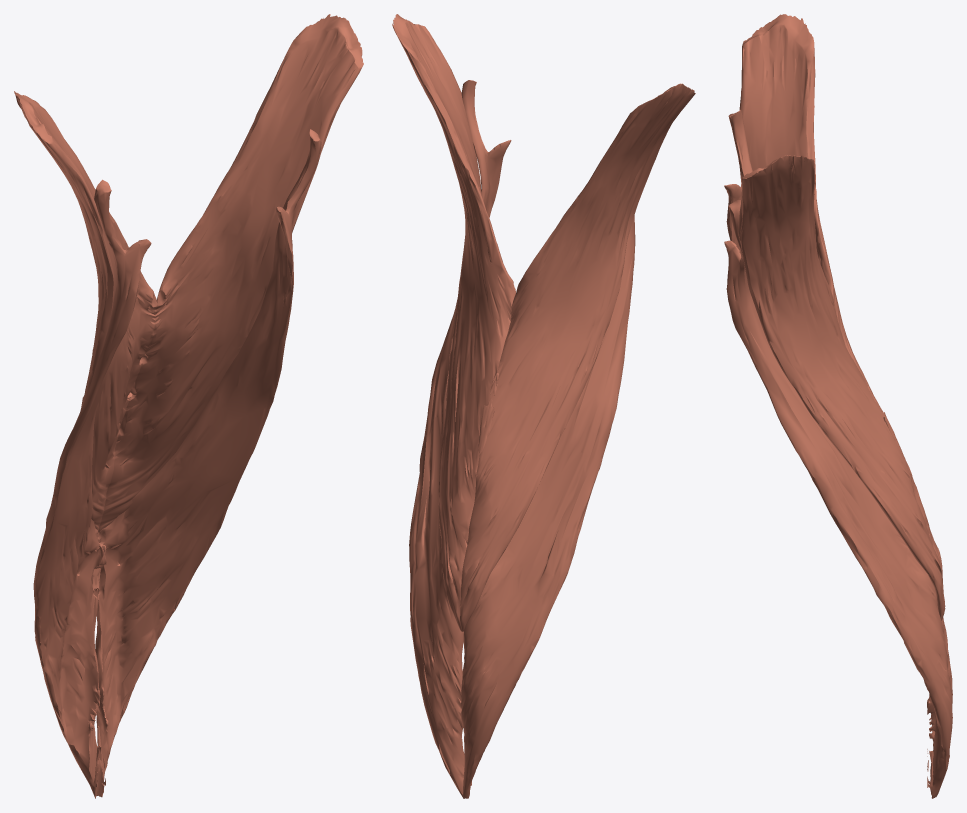
Rendered from splenius.glb.
The picture shows the model from 3 angles, left to right: view 1: azimuth 30°, elevation 25°; view 2: azimuth 150°, elevation 25°; view 3: azimuth 270°, elevation 25°; orthographic projection. The views are drawn at different scales.
Parts seen in each view (by area): view 1: grp1; view 2: grp1; view 3: grp1.
Part boxes in pixels (left/top/right/bottom): grp1: left=14, top=14, right=363, bottom=798; grp1: left=392, top=14, right=695, bottom=798; grp1: left=724, top=14, right=952, bottom=798.
Size of the model in its own units: 0.1217 by 0.2819 by 0.082.
